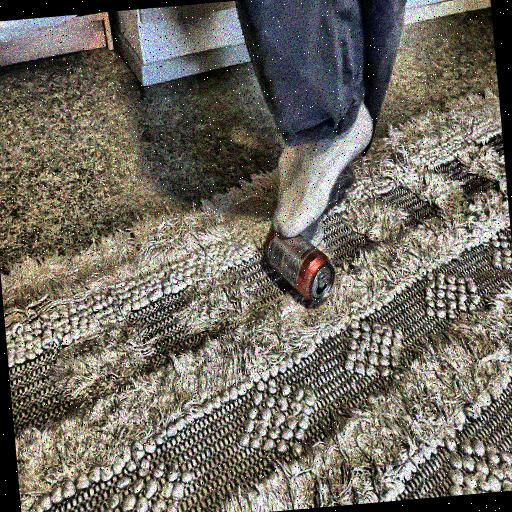koff: (252, 214, 343, 311)
